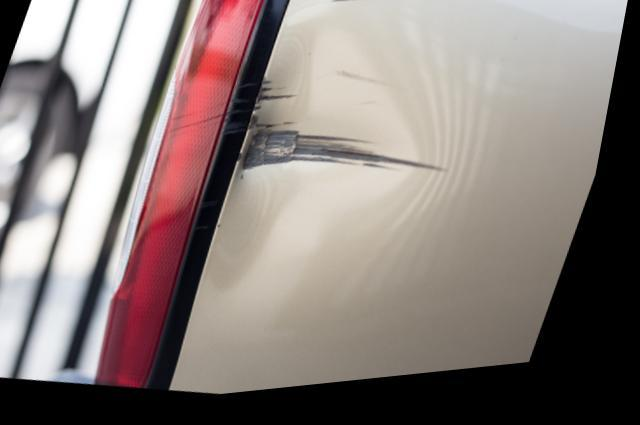dent: (213, 24, 427, 304)
